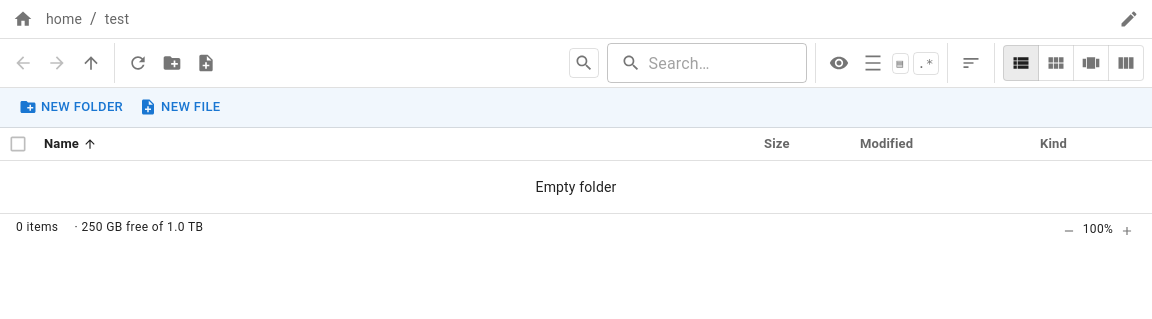
Browser smoke › renders with kindFilterOpen via local toggle (no crash)
This screenshot has width=1152, height=319.
// Toggle the kind-filter chip row via the toolbar button.
What coordinates should you click on to do the following:
click the button named "kind filter"
I would click on:
 (900, 63)
Its box is [892,52,909,74].
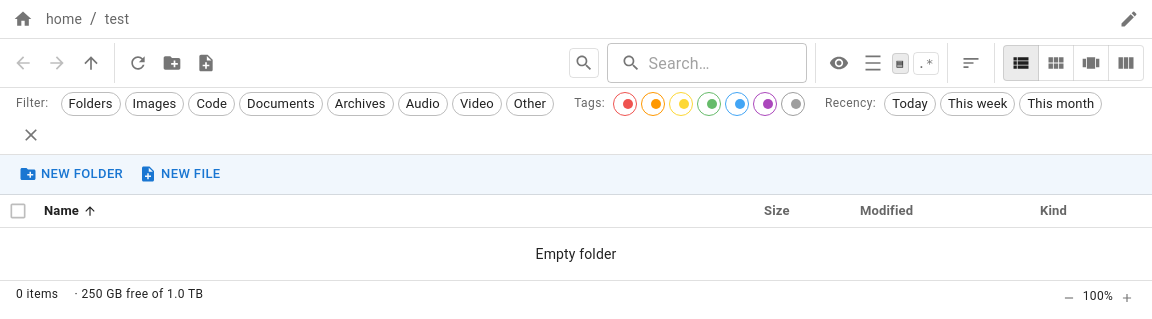
Expected: the text "Filter:" is shown, [16,94,48,114]
